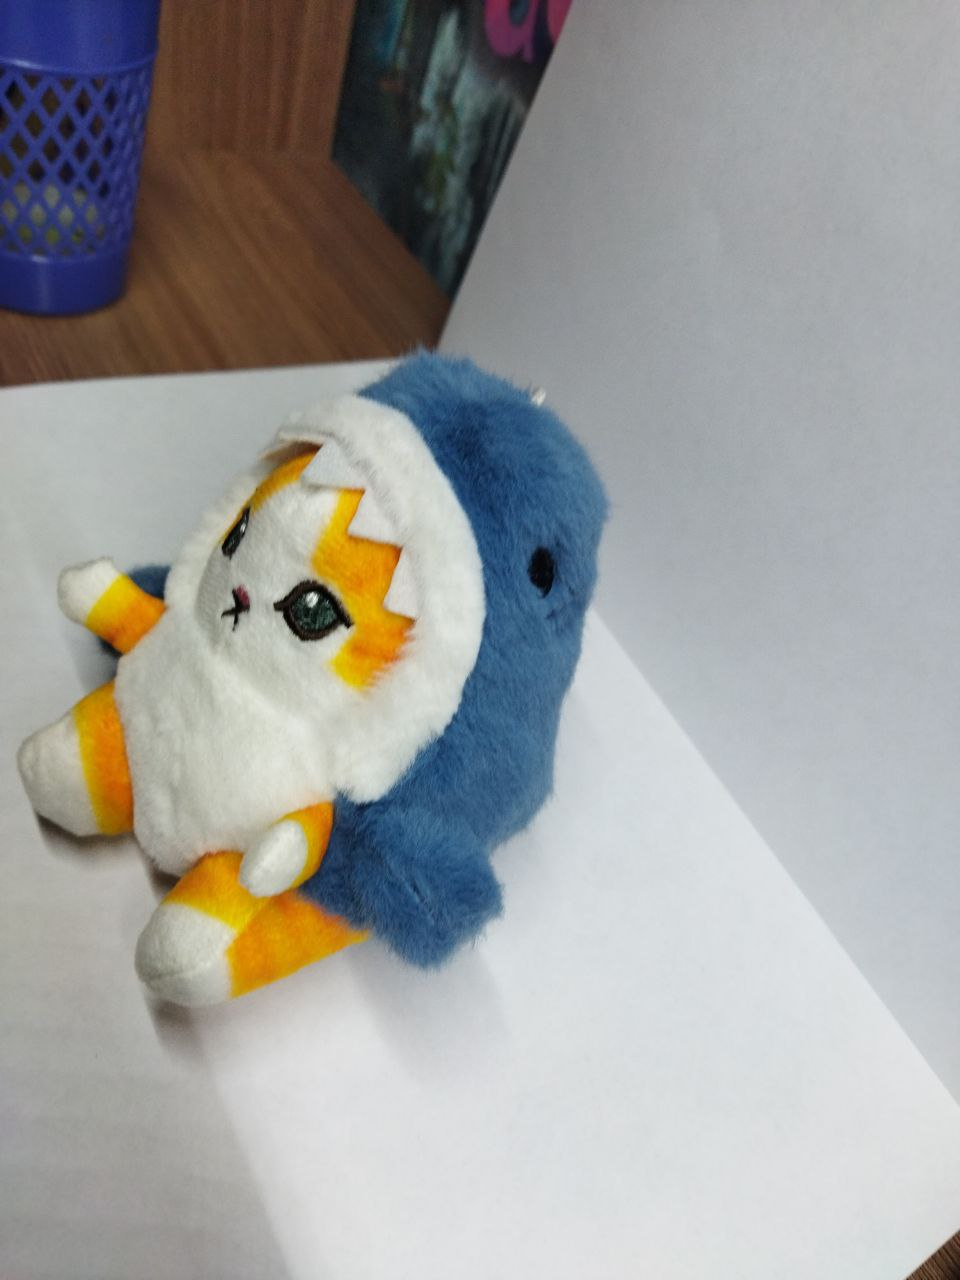Snark Cat: (16, 353, 608, 1008)
